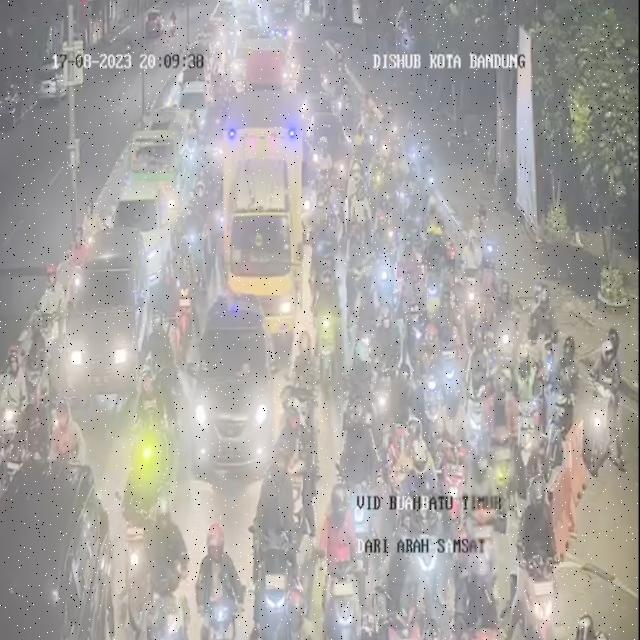cars: (180, 289, 275, 478), (63, 222, 152, 410), (116, 176, 170, 277), (242, 84, 297, 167), (305, 116, 349, 178), (177, 82, 208, 129), (300, 92, 334, 126), (296, 71, 326, 99), (362, 83, 377, 135)
d: (180, 52, 212, 92)
motorcycle: (255, 468, 303, 639), (337, 388, 379, 561), (518, 486, 562, 638), (402, 488, 449, 624), (148, 503, 190, 638), (327, 474, 361, 640), (194, 522, 241, 638), (591, 333, 625, 470), (468, 438, 499, 585), (396, 416, 435, 520), (285, 327, 320, 442), (488, 363, 518, 497), (282, 394, 315, 514), (0, 338, 26, 463), (383, 362, 419, 442), (280, 372, 317, 448), (347, 339, 375, 439), (437, 313, 464, 416), (371, 306, 394, 426), (138, 357, 165, 450), (553, 332, 577, 435), (278, 394, 307, 478), (40, 268, 67, 357), (347, 225, 371, 324), (428, 219, 452, 317), (321, 268, 344, 370), (466, 340, 490, 435), (147, 313, 176, 391), (468, 202, 497, 280), (54, 393, 83, 467), (21, 312, 44, 404), (415, 131, 443, 205), (456, 229, 478, 319), (382, 305, 408, 380), (373, 210, 394, 302), (312, 213, 334, 296), (206, 98, 228, 181), (344, 385, 372, 449), (152, 267, 178, 335), (396, 416, 426, 473), (176, 245, 195, 327), (528, 281, 554, 340), (400, 170, 422, 239), (494, 308, 520, 366), (318, 305, 336, 386), (184, 198, 202, 277), (386, 119, 408, 182), (448, 242, 468, 311), (324, 162, 344, 227), (302, 161, 322, 225), (400, 304, 417, 378), (374, 176, 392, 244), (398, 235, 420, 288), (374, 137, 394, 188), (351, 157, 370, 209), (182, 113, 197, 174), (222, 92, 237, 150), (212, 183, 226, 245), (352, 120, 370, 167), (427, 200, 444, 247), (208, 178, 220, 244), (84, 197, 100, 246), (177, 240, 193, 284), (235, 622, 272, 640), (292, 618, 322, 640), (400, 268, 420, 301), (209, 150, 224, 187)
truck: (225, 137, 301, 345), (133, 112, 193, 224)
